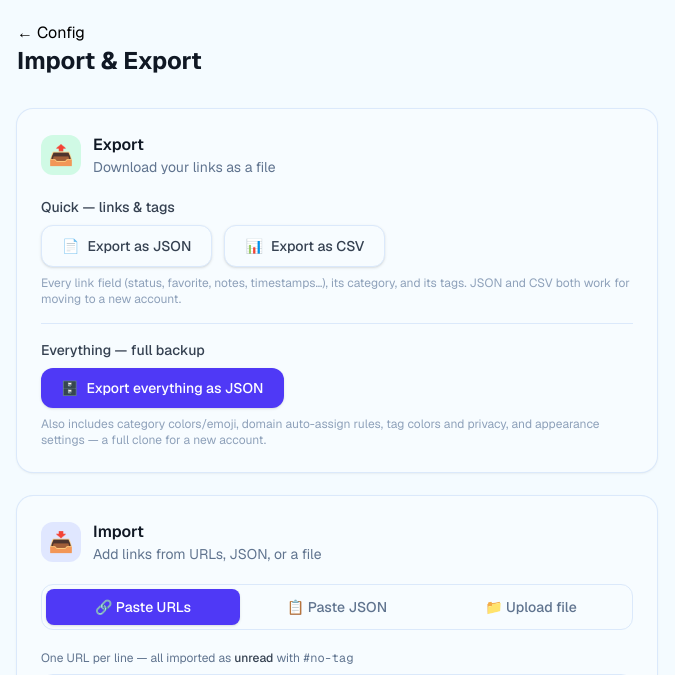
Test: ImportExportClient › tab switching › shows the file drop zone when File tab is clicked
This screenshot has width=675, height=675.
What coordinates should you click on to do the following:
click the button "📁 Upload file"
I would click on:
 (531, 607)
Its box is x1=434 y1=589 x2=628 y2=625.
(page scrolled)
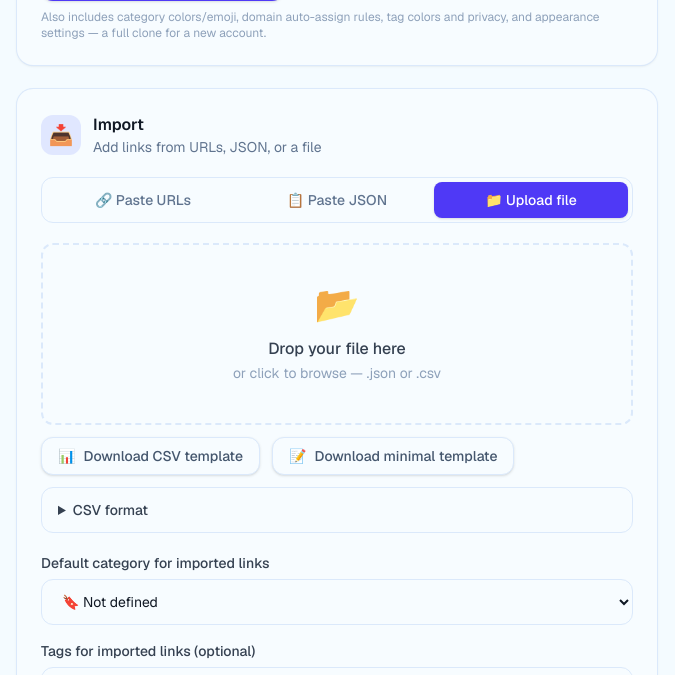
Expected: the text "Drop your file here" is shown, x1=268 y1=338 x2=406 y2=359
